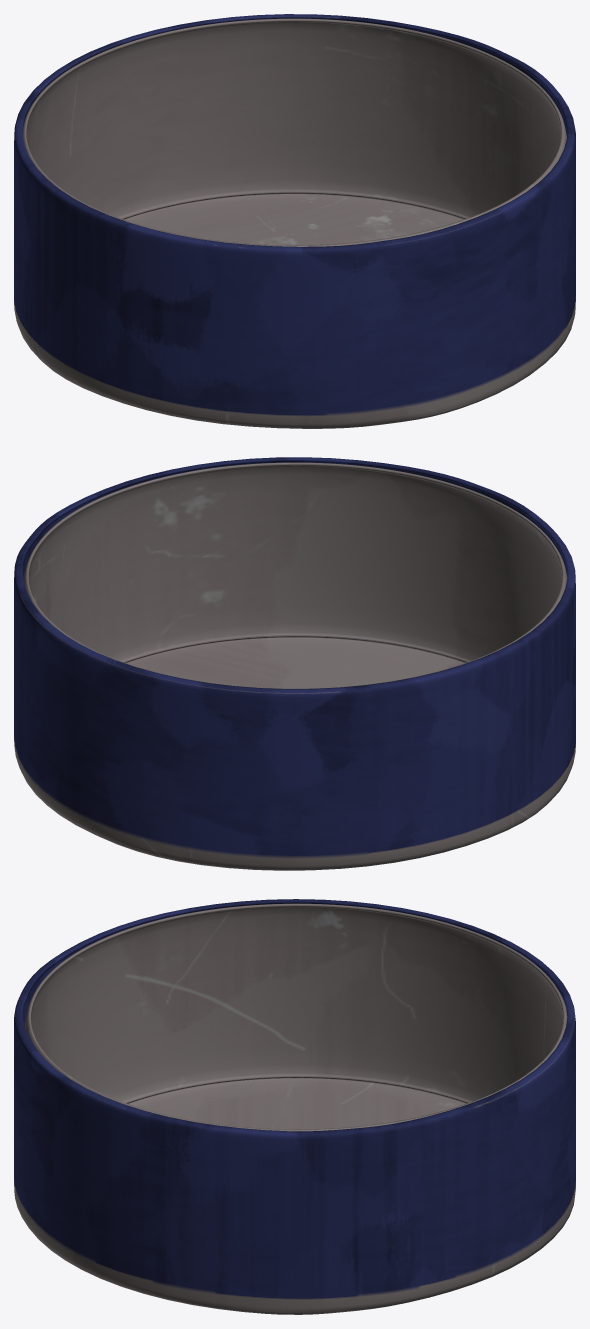
Rendered from cookietinbody.fbx.
The picture shows the model from 3 angles, top to bottom: view 1: azimuth 30°, elevation 25°; view 2: azimuth 150°, elevation 25°; view 3: azimuth 270°, elevation 25°; orthographic projection.
Parts seen in each view (by area): view 1: original 1.001_BAKED; view 2: original 1.001_BAKED; view 3: original 1.001_BAKED.
Part boxes in pixels (x1=…): original 1.001_BAKED: x1=14, y1=14, x2=575, y2=428; original 1.001_BAKED: x1=14, y1=457, x2=575, y2=870; original 1.001_BAKED: x1=14, y1=899, x2=575, y2=1314.
Size of the model in its own units: 196 by 70.19 by 196.
